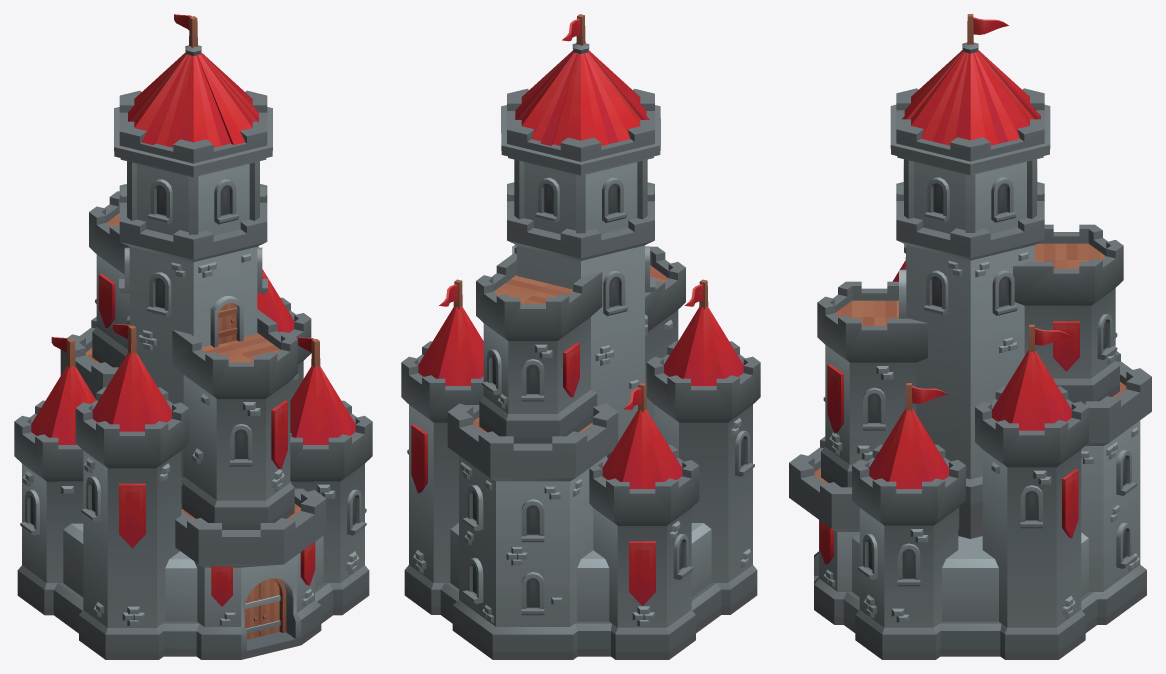
The model's file is nexus-red.glb.
3 views of the same model, side by side, from view 1: azimuth 30°, elevation 25°; view 2: azimuth 150°, elevation 25°; view 3: azimuth 270°, elevation 25° (orthographic).
Parts seen in each view (by area): view 1: building_castle_red; view 2: building_castle_red; view 3: building_castle_red.
Boxes of the visible parts, bbox=[...] form: building_castle_red: bbox=[14, 14, 372, 659]; building_castle_red: bbox=[401, 14, 760, 659]; building_castle_red: bbox=[789, 14, 1151, 659].
Size of the model in its own units: 1.98 by 3.98 by 2.26.
1 material, 1 textured.
